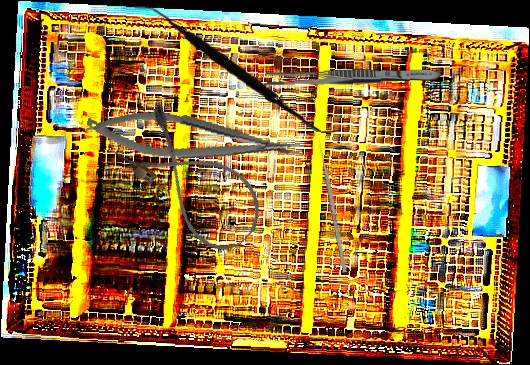Cannula: (110, 99, 276, 263)
Dressing Forceps: (263, 65, 442, 89)
Needle Holder: (83, 100, 306, 179)
Pusher: (316, 136, 348, 273)
Spatula Surgical: (129, 3, 345, 134)
